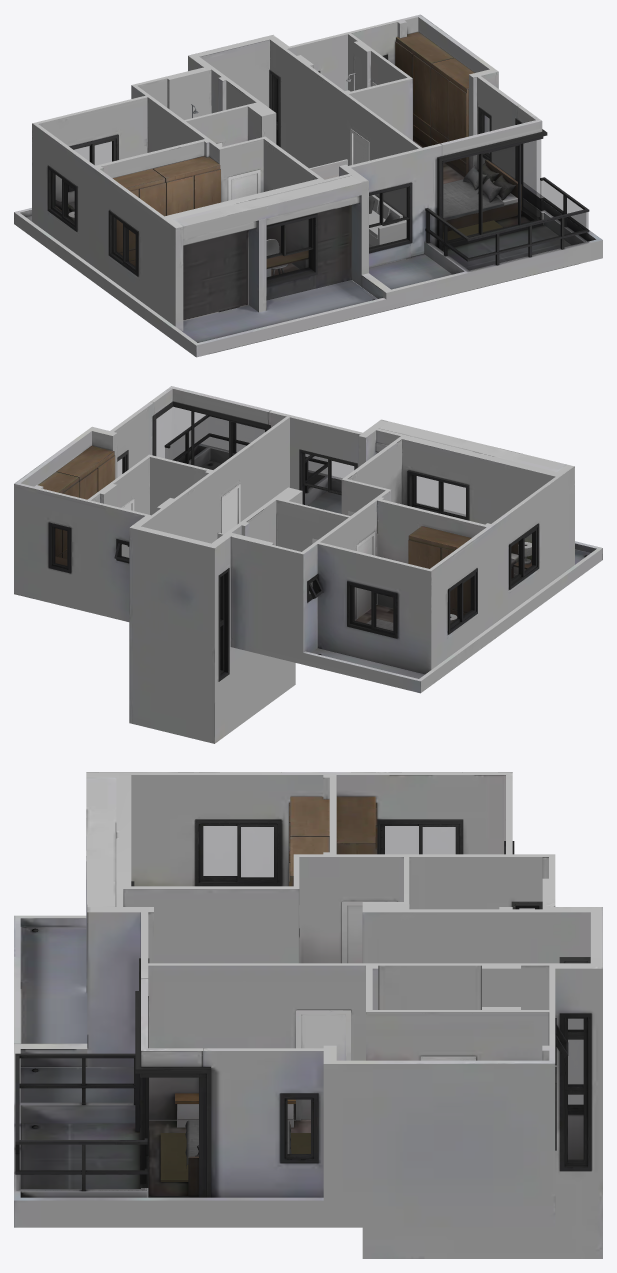
The model's file is SH2511_2ndFloorBaked_v03.gltf.
3 views of the same model, one above another, from view 1: azimuth 30°, elevation 25°; view 2: azimuth 150°, elevation 25°; view 3: azimuth 270°, elevation 25° (orthographic). The views are drawn at different scales.
Visible parts, largest first — view 1: floor2_Geo, mirror_floor2, metal_floor2, stair_floor2, bed_floor2, sofa_floor2, chair_floor2; view 2: floor2_Geo, mirror_floor2, metal_floor2, stair_floor2, chair_floor2, bed_floor2; view 3: floor2_Geo, mirror_floor2, metal_floor2, chair_floor2, stair_floor2, sofa_floor2, bed_floor2.
Boxes of the visible parts, x1,y1,x2,y2 form: floor2_Geo: (14,14,602,357); mirror_floor2: (54,77,588,279); metal_floor2: (47,54,589,342); stair_floor2: (113,32,474,266); bed_floor2: (55,159,521,277); sofa_floor2: (369,195,502,247); chair_floor2: (217,82,376,275); floor2_Geo: (14,386,602,743); mirror_floor2: (54,407,534,670); metal_floor2: (48,401,586,681); stair_floor2: (38,446,471,615); chair_floor2: (121,483,375,618); bed_floor2: (55,542,531,630); floor2_Geo: (14,772,602,1258); mirror_floor2: (17,826,583,1196); metal_floor2: (15,819,591,1197); chair_floor2: (175,901,475,1127); stair_floor2: (289,796,377,886); sofa_floor2: (160,1133,310,1181); bed_floor2: (185,1120,291,1196).
Bounding box in the file's own units: 7.04 × 3.24 × 5.95.
Materials: 8 (8 with a texture image).
